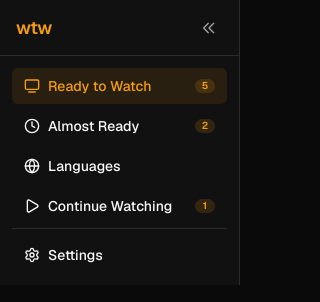
Test case: Sidebar › collapsed mode › renders count badges on collapsed icons
This screenshot has width=320, height=302.
Click the button named "Collapse sidebar" at [209, 28], box [195,14,223,42]
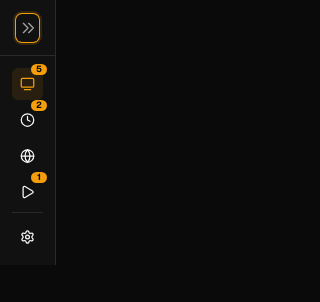
Check: the text "1" is shown, box [31,172,47,183]
Check: the text "5" is shown, box [31,64,47,75]
Check: the text "2" is shown, box [31,100,47,111]
